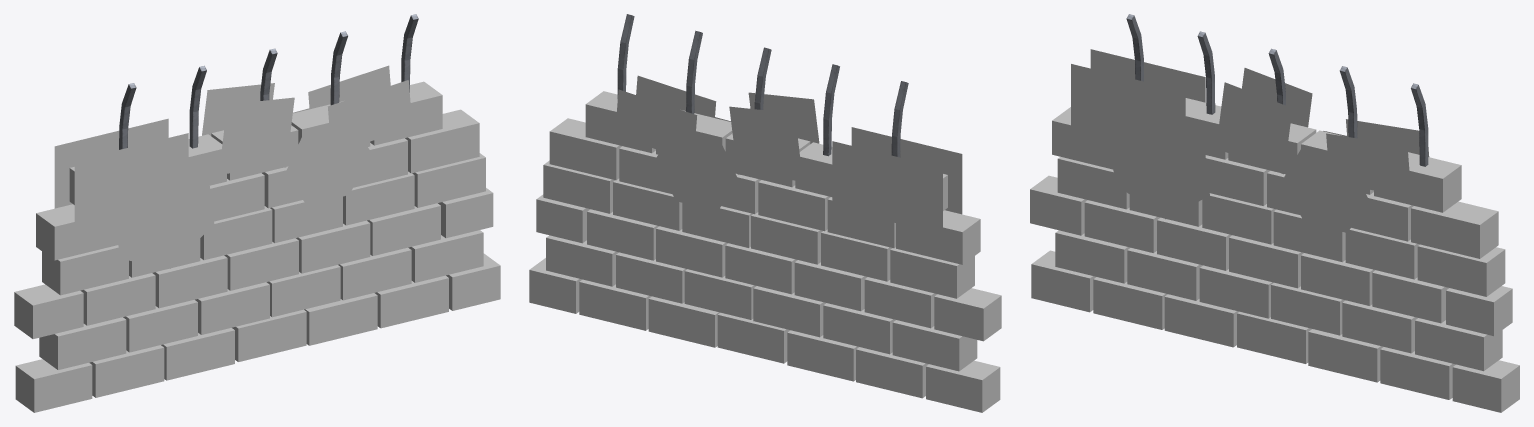
File: barier3_5.fbx
3 renders of one model, left to right at view 1: azimuth 30°, elevation 25°; view 2: azimuth 150°, elevation 25°; view 3: azimuth 330°, elevation 25°, orthographic. The views are drawn at different scales.
Visible parts, largest first — view 1: 1.089, 1.087, 1.060, 1.061, 1.088, 1.062, 1.005; view 2: 1.089, 1.060, 1.061, 1.088, 1.062, 1.005; view 3: 1.089, 1.087, 1.060, 1.061, 1.088, 1.062, 1.005.
Part boxes in pixels (x1,y1,x2,y2): 1.089: (14,81,500,412); 1.087: (113,158,214,268); 1.060: (54,118,188,228); 1.061: (202,83,294,174); 1.088: (285,108,369,205); 1.062: (308,65,412,142); 1.005: (119,14,418,149); 1.089: (529,91,1001,412); 1.060: (832,127,962,234); 1.061: (729,92,819,181); 1.088: (656,117,738,211); 1.062: (615,75,716,150); 1.005: (617,14,908,157); 1.089: (1030,98,1519,412); 1.087: (1108,101,1209,219); 1.060: (1071,49,1205,141); 1.061: (1216,68,1312,174); 1.088: (1282,131,1368,232); 1.062: (1326,119,1429,196); 1.005: (1126,14,1428,166).
Bounding box in the file's own units: 238 × 148 × 18.23.
